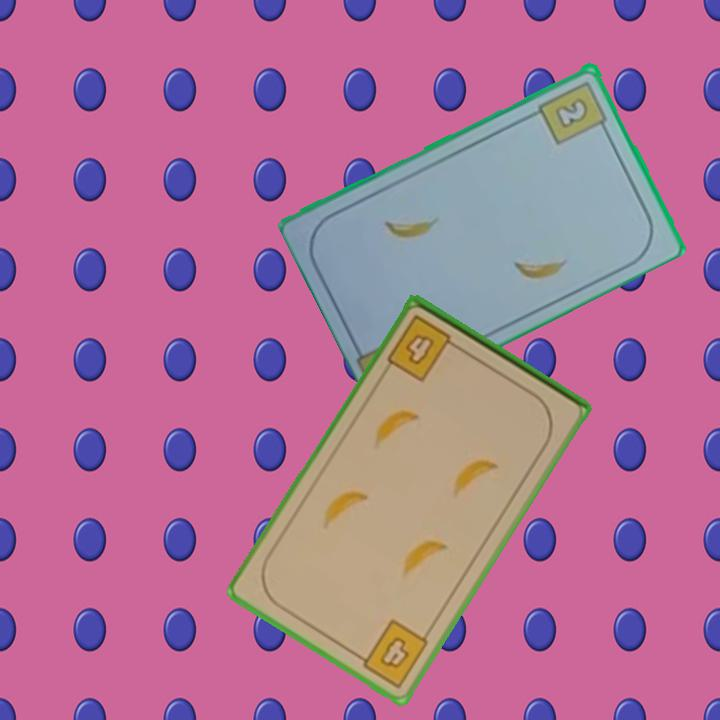2b: (535, 76, 611, 147)
4b: (351, 616, 432, 691), (383, 311, 464, 385)
